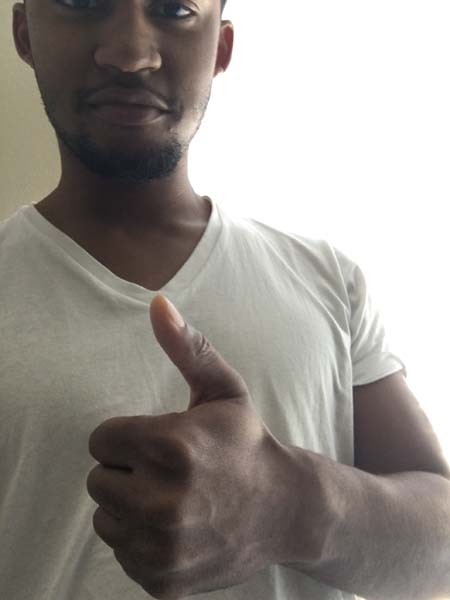Thumbs Up: (73, 291, 293, 600)
